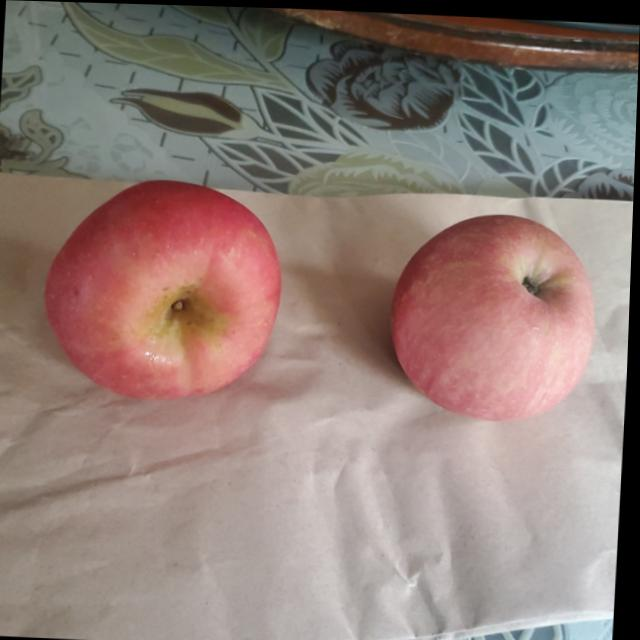apple: (39, 175, 284, 404), (386, 205, 598, 420)
